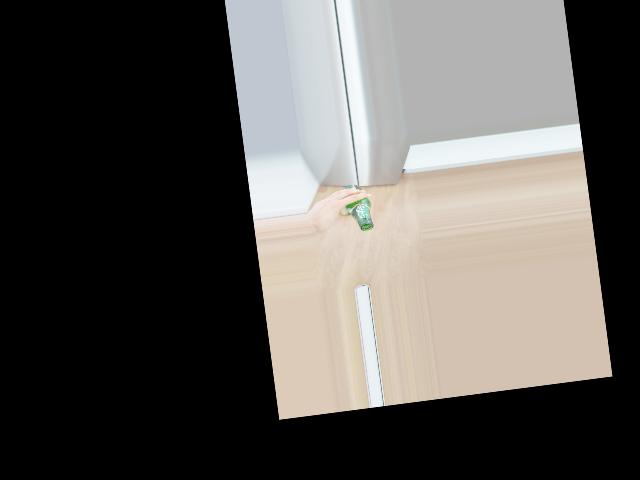beer: (341, 183, 374, 233)
